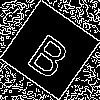B: (25, 25, 78, 82)
